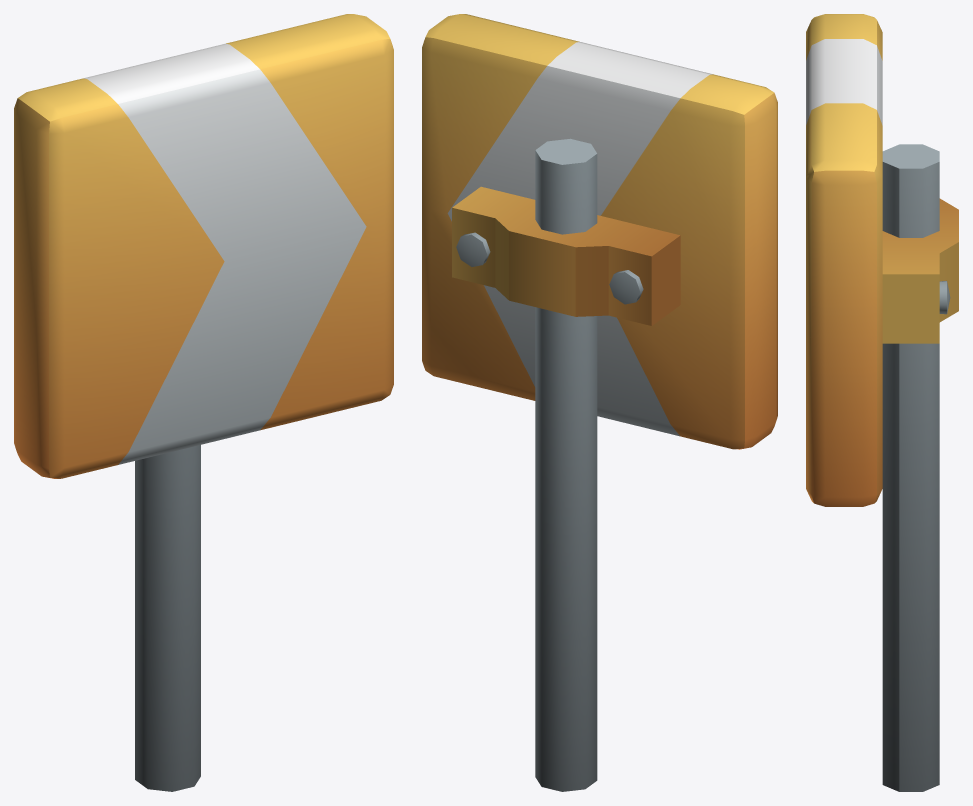
The model's file is signage_arrow_stand_yellow.glb.
3 renders of one model, left to right at view 1: azimuth 30°, elevation 25°; view 2: azimuth 150°, elevation 25°; view 3: azimuth 270°, elevation 25°, orthographic. The views are drawn at different scales.
Parts seen in each view (by area): view 1: signage_arrow_stand_yellow; view 2: signage_arrow_stand_yellow; view 3: signage_arrow_stand_yellow.
Part boxes in pixels (left/top/right/bottom): signage_arrow_stand_yellow: left=14, top=14, right=393, bottom=791; signage_arrow_stand_yellow: left=422, top=14, right=777, bottom=791; signage_arrow_stand_yellow: left=806, top=14, right=958, bottom=791.
Size of the model in its own units: 1 by 2 by 0.4.
Materials: 1 (1 with a texture image).
